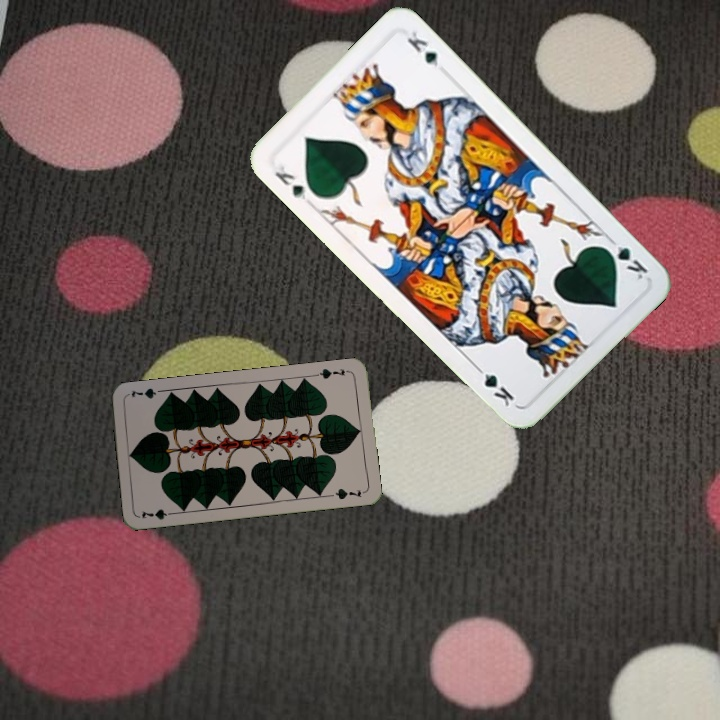G7: (312, 364, 353, 382), (137, 505, 178, 522)
GK: (599, 234, 651, 283), (271, 161, 309, 203)
